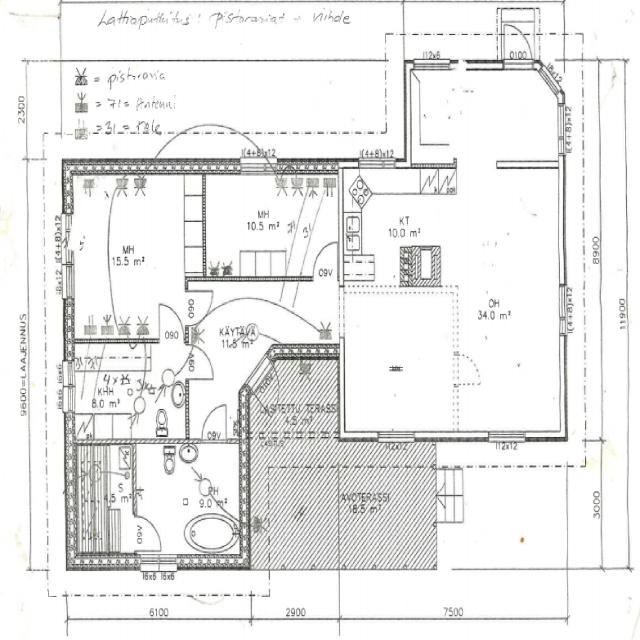door: (501, 20, 534, 69), (132, 512, 164, 555), (200, 401, 230, 445), (453, 350, 485, 389), (312, 237, 340, 280), (187, 344, 217, 383), (238, 133, 268, 172), (156, 300, 185, 340), (516, 184, 544, 221), (629, 605, 640, 640)
window: (60, 208, 75, 275), (60, 358, 76, 413), (486, 427, 529, 447), (61, 255, 77, 304), (357, 154, 399, 172), (554, 100, 568, 154), (412, 56, 453, 74), (555, 282, 569, 334), (152, 555, 179, 573), (190, 592, 205, 602)
zone: (66, 178, 204, 339), (407, 67, 559, 171), (134, 439, 244, 562), (344, 165, 444, 287), (203, 174, 307, 278), (70, 344, 150, 442), (72, 443, 135, 559)
